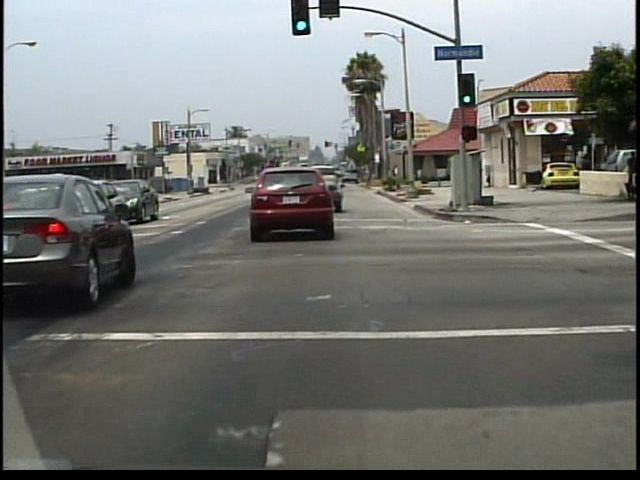person: (577, 152, 594, 195)
